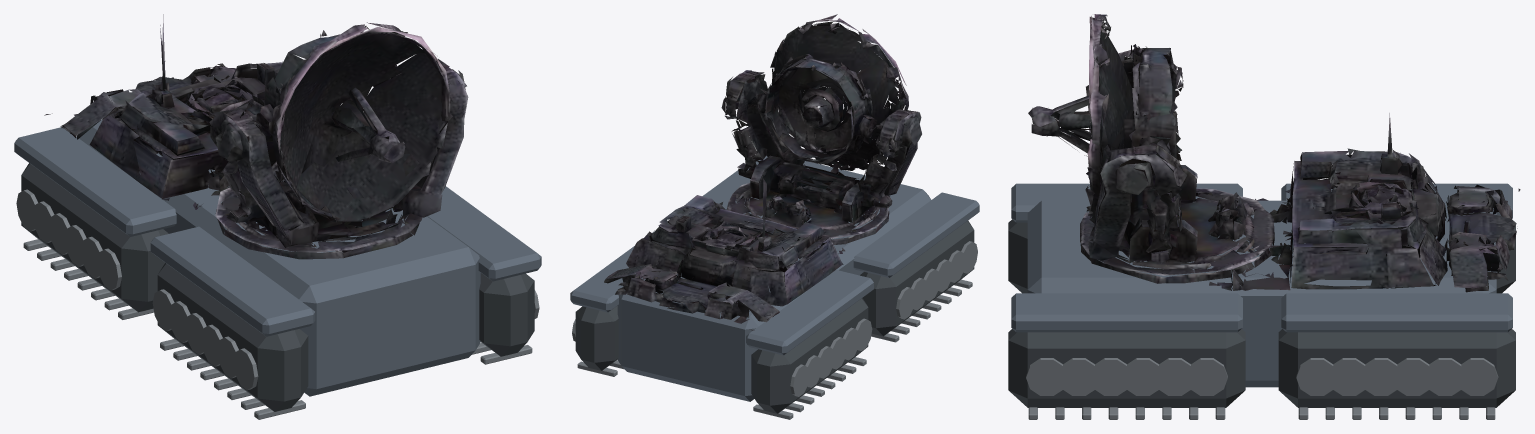
The model's file is sonic_fatboy_chassis_draft.glb.
3 renders of one model, left to right at view 1: azimuth 30°, elevation 25°; view 2: azimuth 150°, elevation 25°; view 3: azimuth 270°, elevation 25°, orthographic. The views are drawn at different scales.
Visible parts, largest first — view 1: Original_upper, Lower hull, Armored fender, Armored fender.001, Track pod, Track pod.001, Armored fender.002, Track pod.002, Track roller.006, Track roller, Track roller.004, Track roller.002 (+8 smaller); view 2: Original_upper, Lower hull, Armored fender, Armored fender.001, Track pod.001, Track pod, Track pod.003, Armored fender.003, Armored fender.002, Track roller.005, Track roller.011, Track roller (+8 smaller); view 3: Original_upper, Lower hull, Track pod.003, Track pod.002, Armored fender.003, Armored fender.002, Armored fender, Track pod, Track roller.012, Track roller.018, Track roller.023, Track roller.014 (+10 smaller).
Part boxes in pixels (x1,y1,x2,y2): Original_upper: (44,14,468,259); Lower hull: (78,119,480,396); Armored fender: (150,226,315,336); Armored fender.001: (14,127,176,236); Track pod: (157,263,308,411); Track pod.001: (21,163,168,312); Armored fender.002: (427,186,541,281); Track pod.002: (479,273,534,356); Track roller.006: (97,248,121,290); Track roller: (234,348,258,390); Track roller.004: (169,301,190,342); Track roller.002: (201,324,222,366); Original_upper: (604,14,921,330); Lower hull: (617,161,930,401); Armored fender: (853,192,979,277); Armored fender.001: (746,270,873,355); Track pod.001: (751,298,868,413); Track pod: (860,221,974,336); Track pod.003: (575,306,618,370); Armored fender.003: (570,231,654,312); Armored fender.002: (702,155,767,209); Track roller.005: (896,287,914,319); Track roller.011: (790,364,809,396); Track roller: (961,241,977,273); Original_upper: (1028,14,1520,292); Lower hull: (1027,200,1496,387); Track pod.003: (1278,329,1515,407); Track pod.002: (1008,329,1245,407); Armored fender.003: (1281,293,1512,332); Armored fender.002: (1011,293,1242,332); Armored fender: (1011,183,1242,222); Track pod: (1008,219,1027,293); Track roller.012: (1026,358,1067,395); Track roller.018: (1296,358,1337,395); Track roller.023: (1457,358,1498,395); Track roller.014: (1090,358,1131,395).
Size of the model in its own units: 0.592 by 0.6745 by 0.9285.
Materials: 4 (1 with a texture image).
